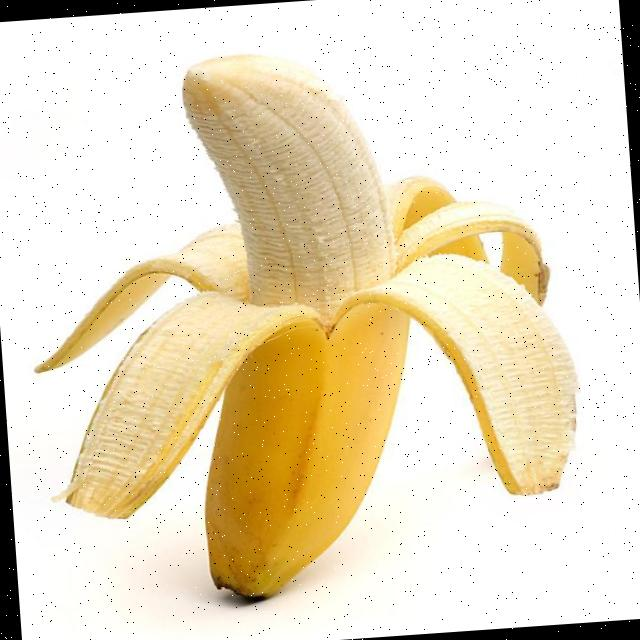banana-peel: (12, 31, 590, 614)
